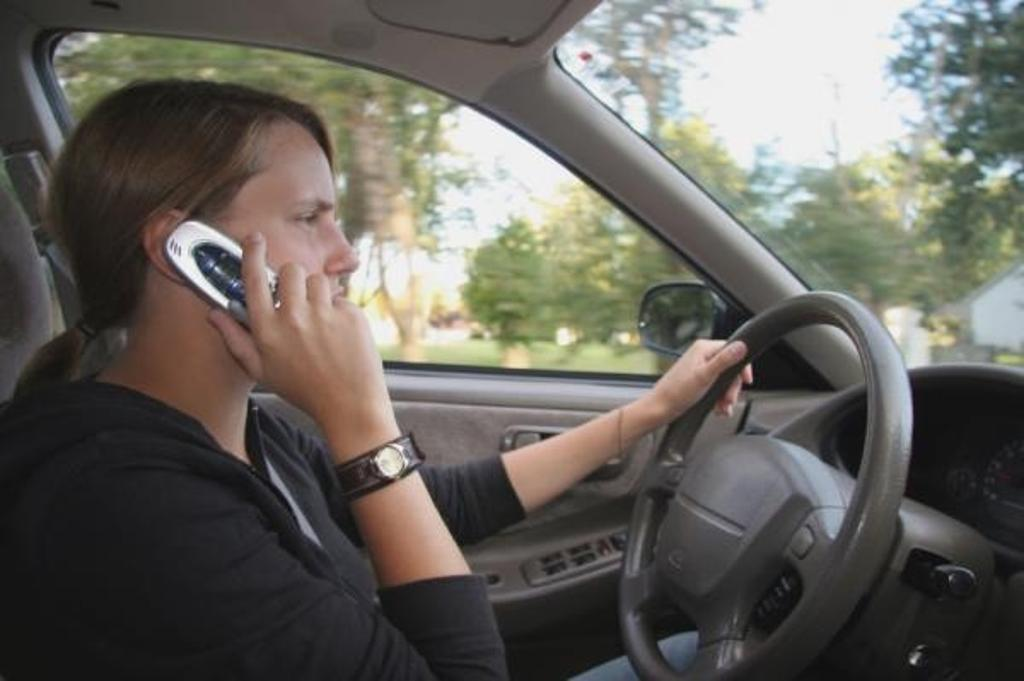face: (205, 119, 359, 361)
